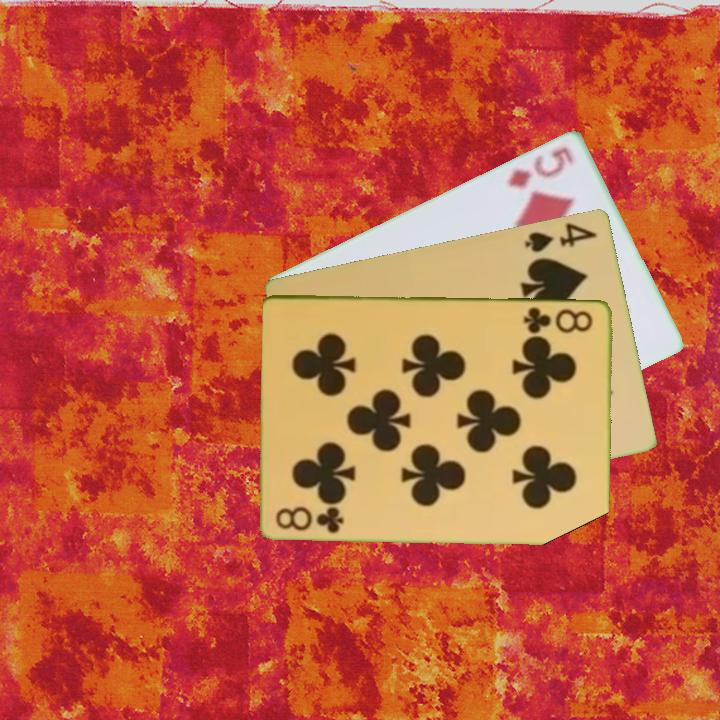4s: (521, 218, 600, 255)
5d: (503, 142, 577, 191)
8c: (520, 303, 596, 336), (273, 502, 347, 535)
